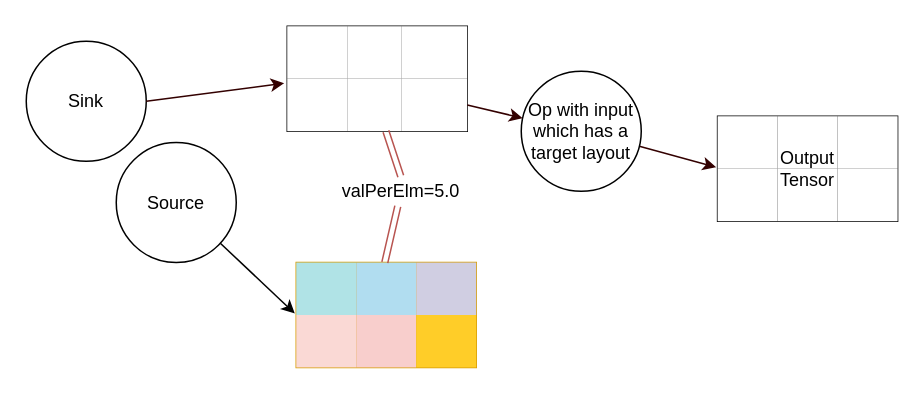
Image size: 924x395. Some labels were removed from this diagram. The centre of each missing label's shape, as x and y in pixels:
Source Tensor: [385,314]
Tensor whose layout needs setting: [376,78]
